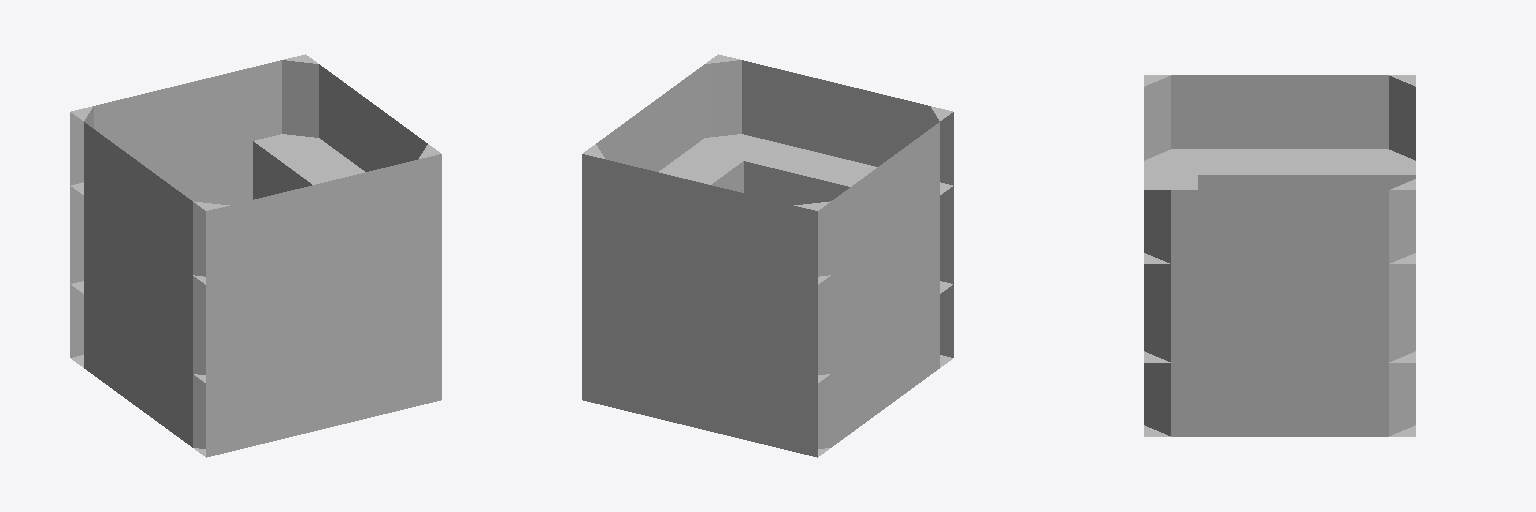
Rendered from doortile_tech.obj.
The picture shows the model from 3 angles: view 1: azimuth 30°, elevation 25°; view 2: azimuth 150°, elevation 25°; view 3: azimuth 270°, elevation 25°; orthographic projection.
Parts seen in each view (by area): view 1: Plane; view 2: Plane; view 3: Plane.
Boxes of the visible parts, x1=… form: Plane: x1=70, y1=54, x2=441, y2=457; Plane: x1=582, y1=54, x2=953, y2=457; Plane: x1=1144, y1=75, x2=1415, y2=436.
Size of the model in its own units: 1 by 1 by 1.